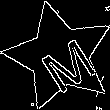M_NW: (26, 23, 93, 90)
